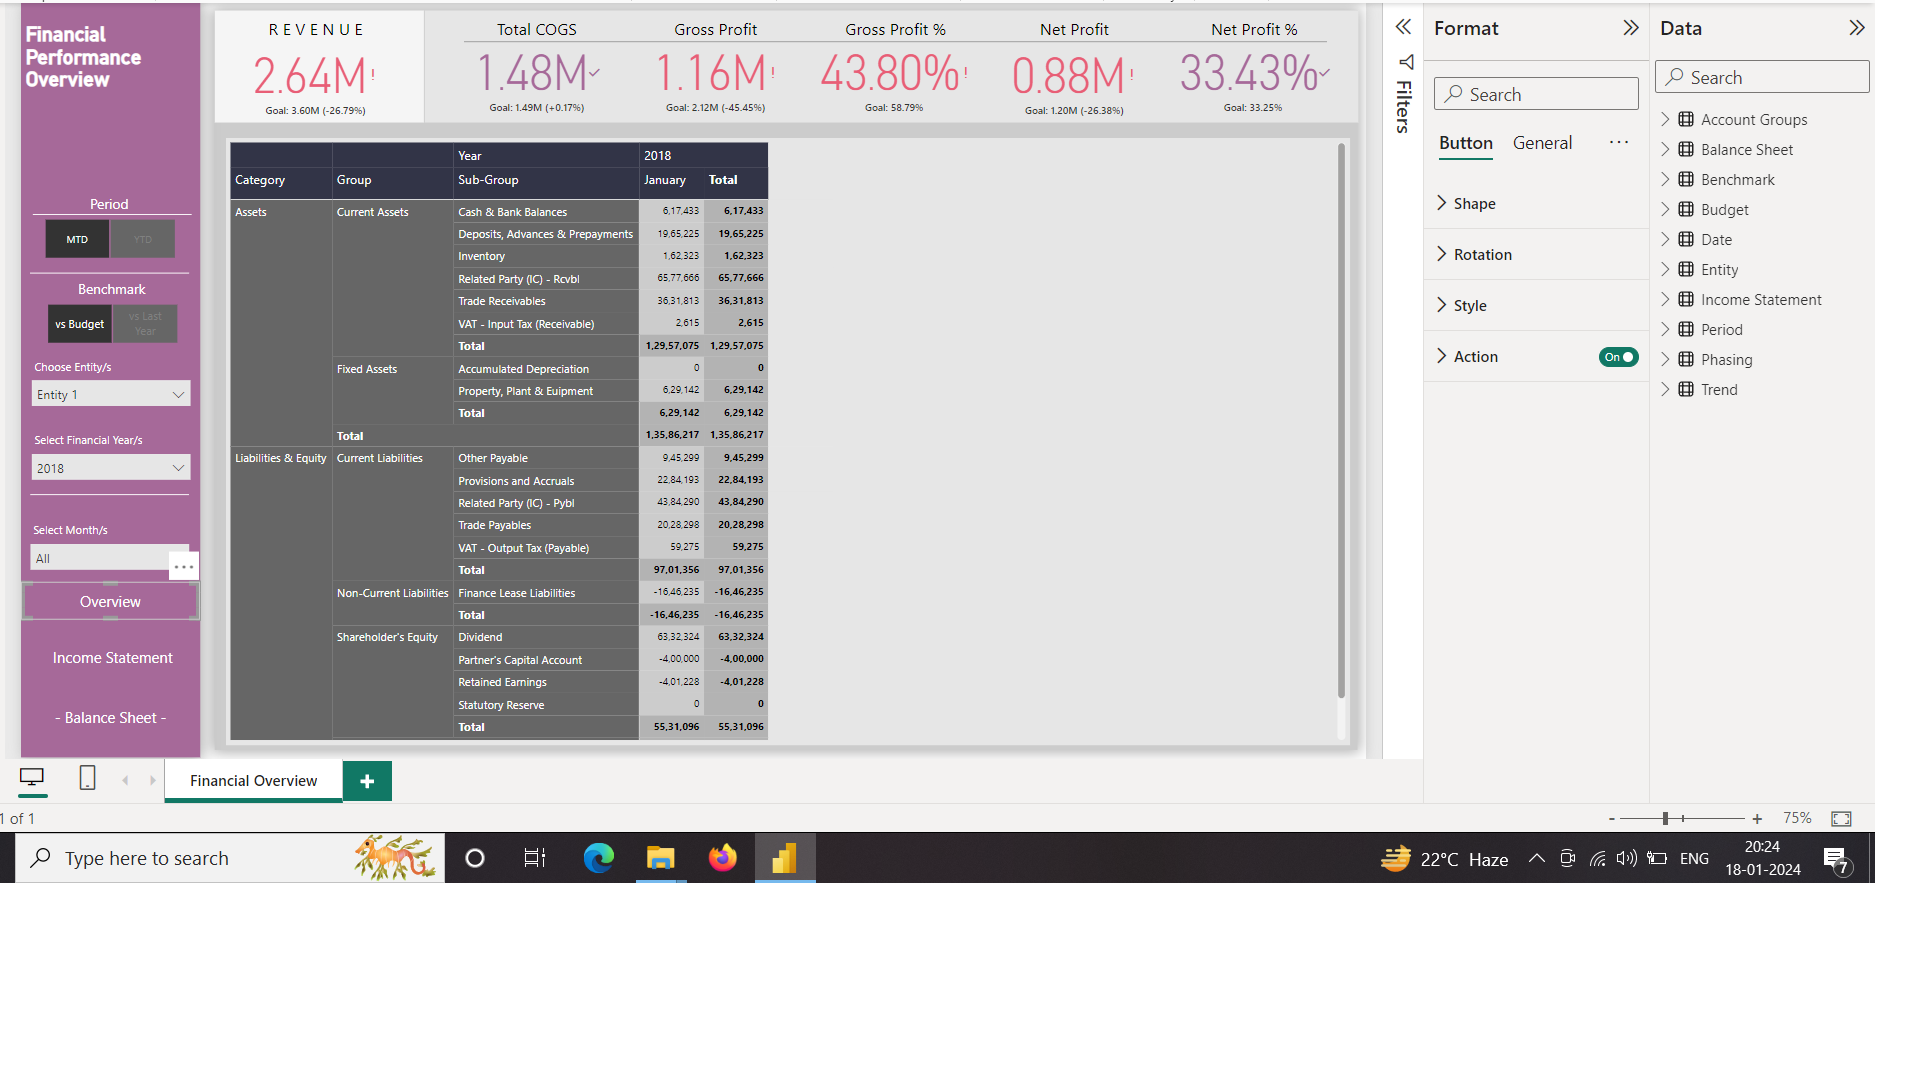

Layout of this report page (visuals, bound fields, positions):
{"tool":"powerbi","page":{"name":"Financial Overview","canvas":[1440,810],"ordinal":0},"visuals":[{"type":"shape","box":[208,8,1224,792],"z":0},{"type":"shape","box":[0,0,192,808],"z":1000},{"type":"shape","box":[208,8,224,120],"z":2000},{"type":"shape","box":[432,8,1000,120],"z":3000},{"type":"textbox","title":"|   Trend                                                                                                                      Phasing   |","box":[600,144,824,648],"z":6000},{"type":"lineClusteredColumnComboChart","title":"|","fields":{"Category":["Date Table.Date.Variation.Date Hierarchy.Year","Date Table.Date.Variation.Date Hierarchy.Quarter","Date Table.Date.Variation.Date Hierarchy.Month"],"Y":["Trend.Actuals","Trend.Budget/LY"],"Y2":["Phasing.Profit %","Phasing.Budget/LY Profit %"]},"box":[600,232,824,560],"z":7000},{"type":"slicer","title":"Phasing   |","fields":{"Values":["Phasing.Phasing"]},"box":[1188,171.7,221.7,53],"z":8000},{"type":"slicer","title":"|   Trend","fields":{"Values":["Trend.Trend"]},"box":[609.2,171.7,220.7,53],"z":9000},{"type":"funnel","title":"|   KPI Funnel","fields":{"Y":["Income Statement.Revenue","Income Statement.COGS","Income Statement.Gross Profit","Income Statement.Expense","Income Statement.Net Profit"]},"box":[216,144,376,648],"z":10000},{"type":"basicShape","box":[464.6,30,944,24],"z":21000},{"type":"kpi","title":"Net Profit %","fields":{"TrendLine":["Date Table.Date"],"Goal":["Comparison.Target Net Profit %"],"Indicator":["Income Statement.Net Profit %"]},"box":[1232.6,16,176,112],"z":22000},{"type":"kpi","title":"Net Profit","fields":{"TrendLine":["Date Table.Date"],"Goal":["Comparison.Target Net Profit"],"Indicator":["Income Statement.Net Profit"]},"box":[1040.6,16,176,112],"z":23000},{"type":"kpi","title":"Gross Profit %","fields":{"TrendLine":["Date Table.Date"],"Goal":["Comparison.Target Gross Profit %"],"Indicator":["Income Statement.Gross Profit %"]},"box":[848.6,16,176,112],"z":24000},{"type":"kpi","title":"Gross Profit","fields":{"TrendLine":["Date Table.Date"],"Goal":["Comparison.Target Gross Profit"],"Indicator":["Income Statement.Gross Profit"]},"box":[656.6,16,176,112],"z":25000},{"type":"kpi","title":"Total COGS","fields":{"TrendLine":["Date Table.Date"],"Goal":["Comparison.Target COGS"],"Indicator":["Income Statement.COGS"]},"box":[464.6,16,176,112],"z":26000},{"type":"kpi","title":"R E V E N U E","fields":{"TrendLine":["Date Table.Date"],"Goal":["Comparison.Target Revenue"],"Indicator":["Income Statement.Revenue"]},"box":[208,16,216,112],"z":27000},{"type":"actionButton","box":[0,744,192,40],"z":29000},{"type":"actionButton","box":[0,693.5,191.5,40.2],"z":32000},{"type":"actionButton","box":[0,640,191.5,40.2],"z":33000},{"type":"basicShape","box":[0,517.1,190,16.3],"z":35000},{"type":"slicer","fields":{"Values":["Calender-Date.Month"]},"box":[0,551.6,190.1,79],"z":36000},{"type":"slicer","fields":{"Values":["Calender-Date.Year"]},"box":[1.3,455.2,190.1,77.7],"z":37000},{"type":"slicer","fields":{"Values":["Entity.Entity"]},"box":[1.3,376.2,190.1,79],"z":38000},{"type":"basicShape","box":[0,280.2,190,15.8],"z":39000},{"type":"slicer","title":"Benchmark","fields":{"Values":["Benchmark.Benchmark"]},"box":[2.7,295.9,188.8,75],"z":40000},{"type":"slicer","title":"Period","fields":{"Values":["Period.Period"]},"box":[0,204.8,188.8,75],"z":41000},{"type":"basicShape","box":[2.7,216.9,190.1,16.1],"z":42000},{"type":"actionButton","box":[414,142.2,178.5,31.4],"z":43000},{"type":"textbox","box":[0,16.1,162,112.5],"z":44001}]}

Visuals, with their boxes on the page's 1440x810 design canvas (x1, y1, x2, y2). These are canvas units, not pixel positions in the 1920x1080 screenshot, which may show the page scaled, cropped or inside an application window:
shape: [208,8,1432,800]
shape: [0,0,192,808]
shape: [208,8,432,128]
shape: [432,8,1432,128]
"|   Trend                                                                                                                      Phasing   |" textbox: [600,144,1424,792]
"|" lineClusteredColumnComboChart: [600,232,1424,792]
"Phasing   |" slicer: [1188,172,1410,225]
"|   Trend" slicer: [609,172,830,225]
"|   KPI Funnel" funnel: [216,144,592,792]
basicShape: [465,30,1409,54]
"Net Profit %" kpi: [1233,16,1409,128]
"Net Profit" kpi: [1041,16,1217,128]
"Gross Profit %" kpi: [849,16,1025,128]
"Gross Profit" kpi: [657,16,833,128]
"Total COGS" kpi: [465,16,641,128]
"R E V E N U E" kpi: [208,16,424,128]
actionButton: [0,744,192,784]
actionButton: [0,694,192,734]
actionButton: [0,640,192,680]
basicShape: [0,517,190,533]
slicer - Calender-Date.Month: [0,552,190,631]
slicer - Calender-Date.Year: [1,455,191,533]
slicer - Entity.Entity: [1,376,191,455]
basicShape: [0,280,190,296]
"Benchmark" slicer: [3,296,192,371]
"Period" slicer: [0,205,189,280]
basicShape: [3,217,193,233]
actionButton: [414,142,592,174]
textbox: [0,16,162,129]
